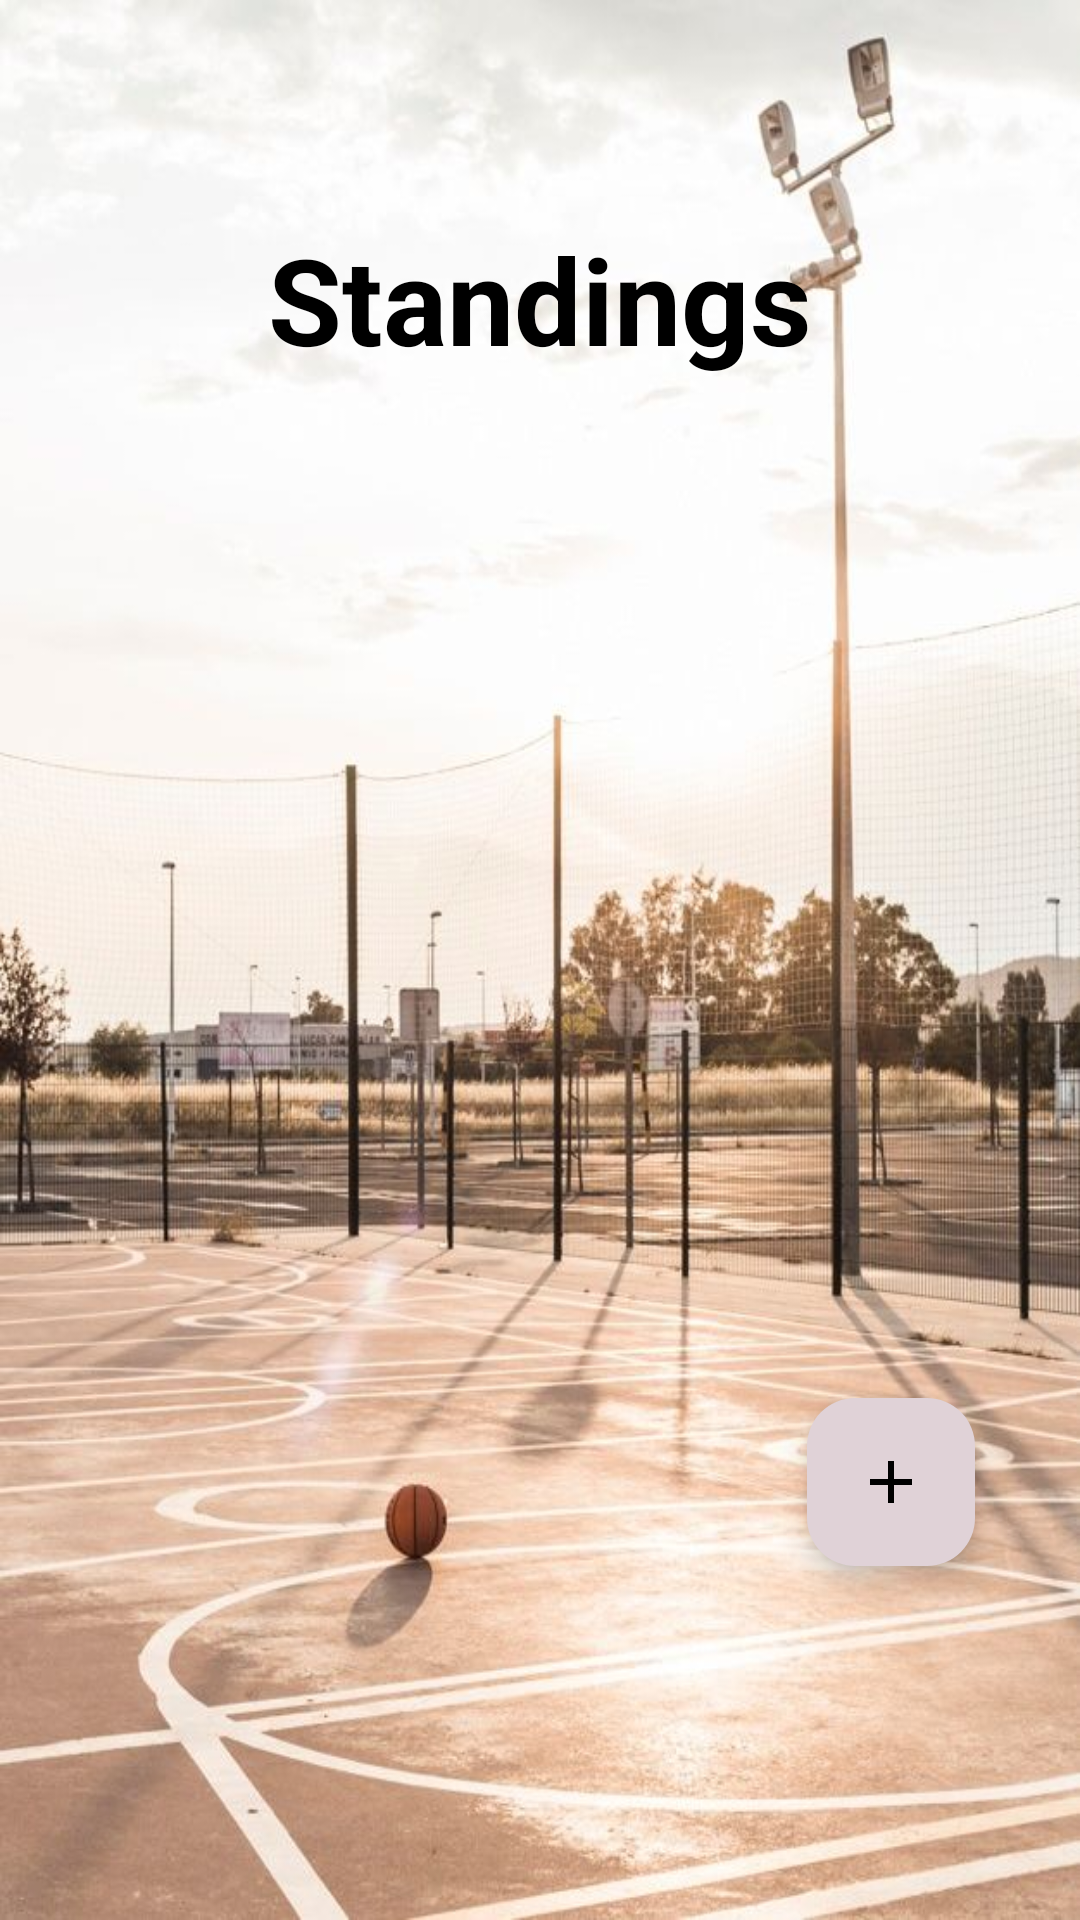

Icon click points for this 1080*1920 phone screenshot, format (x,y):
add: (891,1482)
